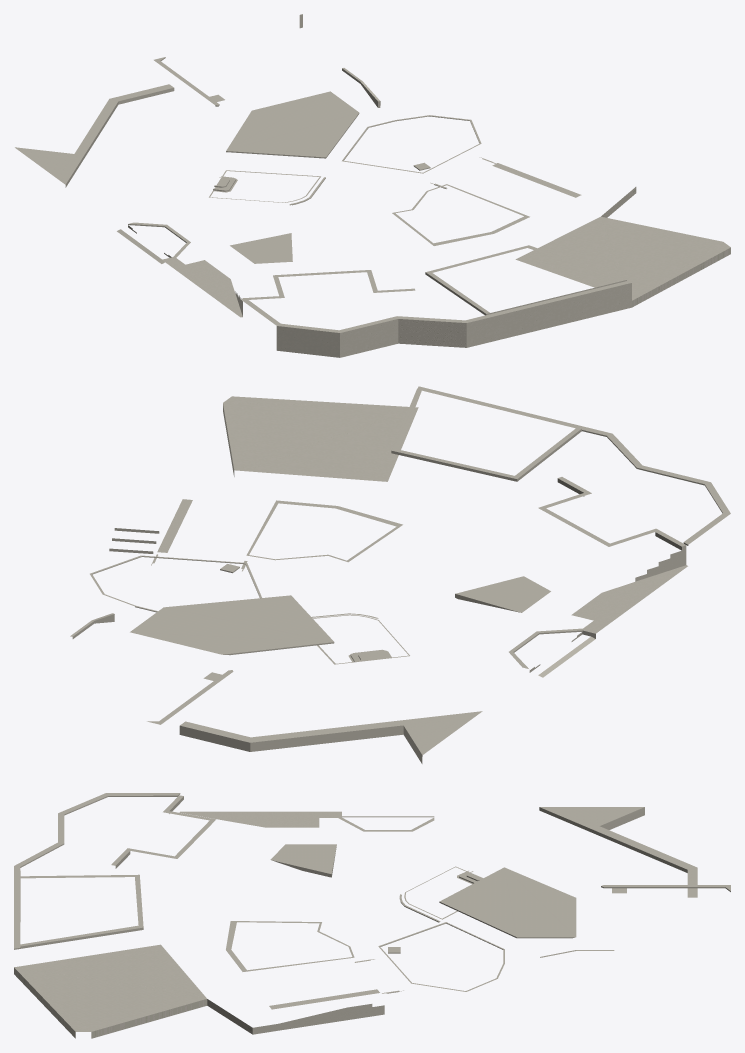
File: kd_stage_135ebf_0_0_bounded.glb
3 views of the same model, one above another, from view 1: azimuth 30°, elevation 25°; view 2: azimuth 150°, elevation 25°; view 3: azimuth 270°, elevation 25° (orthographic). The views are drawn at different scales.
Parts seen in each view (by area): view 1: kd_stage_135ebf_0_0_bounded; view 2: kd_stage_135ebf_0_0_bounded; view 3: kd_stage_135ebf_0_0_bounded.
Boxes of the visible parts, box(x1,y1,x2,y2) form: kd_stage_135ebf_0_0_bounded: box(15, 14, 730, 357); kd_stage_135ebf_0_0_bounded: box(70, 386, 730, 763); kd_stage_135ebf_0_0_bounded: box(14, 793, 730, 1038).
Size of the model in its own units: 20.39 by 2 by 28.05.
1 material, 1 textured.
